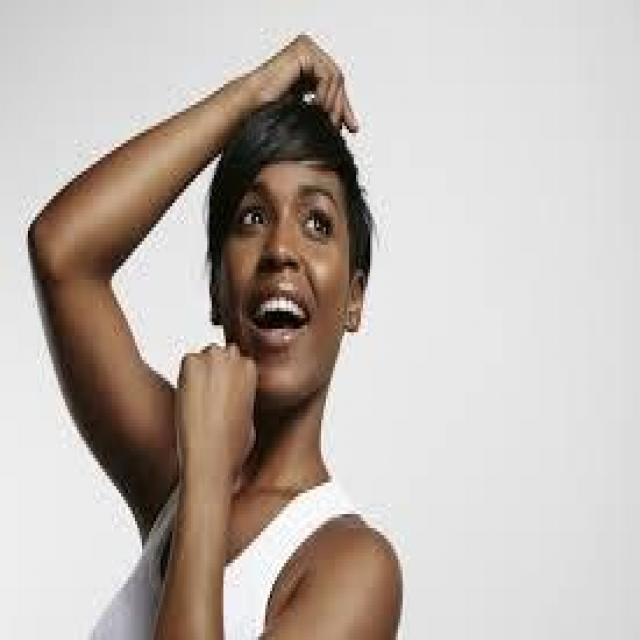person: (26, 28, 412, 636)
